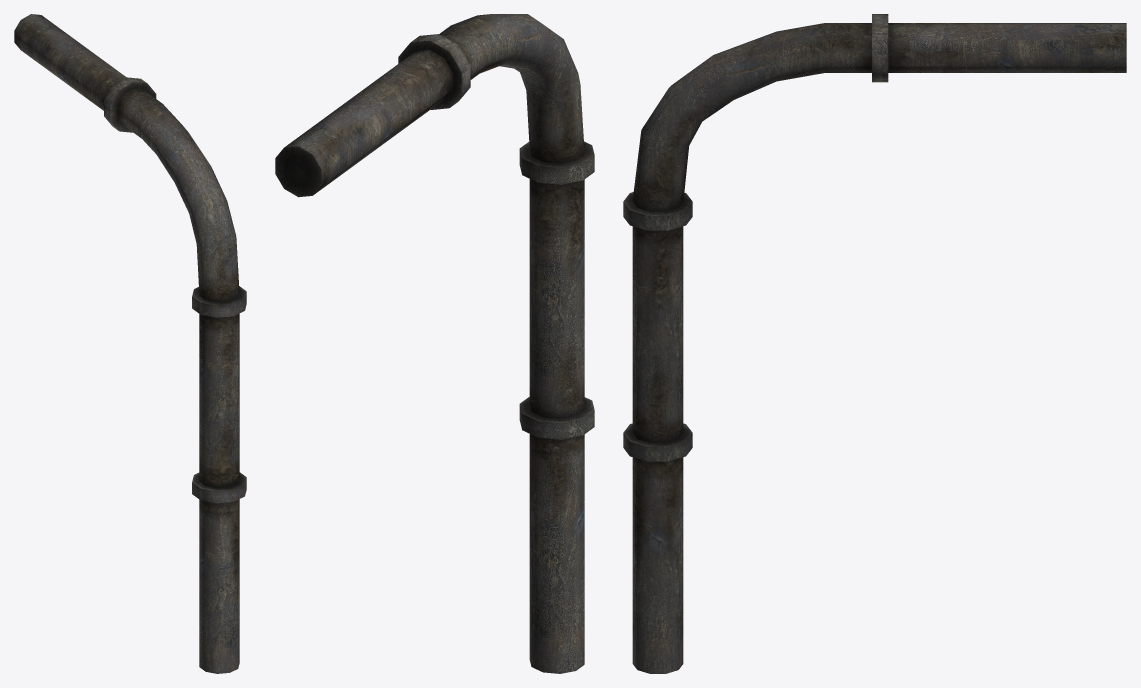
Rendered from Pipe90.fbx.
3 views of the same model, side by side, from view 1: azimuth 30°, elevation 25°; view 2: azimuth 150°, elevation 25°; view 3: azimuth 270°, elevation 25° (orthographic). The views are drawn at different scales.
Parts seen in each view (by area): view 1: Cylinder_002_001; view 2: Cylinder_002_001; view 3: Cylinder_002_001.
Boxes of the visible parts, x1=… form: Cylinder_002_001: x1=14, y1=14, x2=246, y2=673; Cylinder_002_001: x1=275, y1=14, x2=594, y2=673; Cylinder_002_001: x1=623, y1=14, x2=1126, y2=673.
Bounding box in the file's own units: 0.1502 × 1.62 × 1.14.
